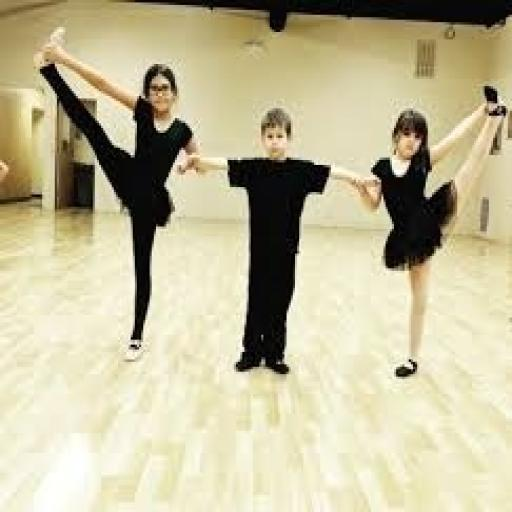dancing: (34, 32, 204, 364), (177, 103, 381, 379), (352, 84, 508, 382)
